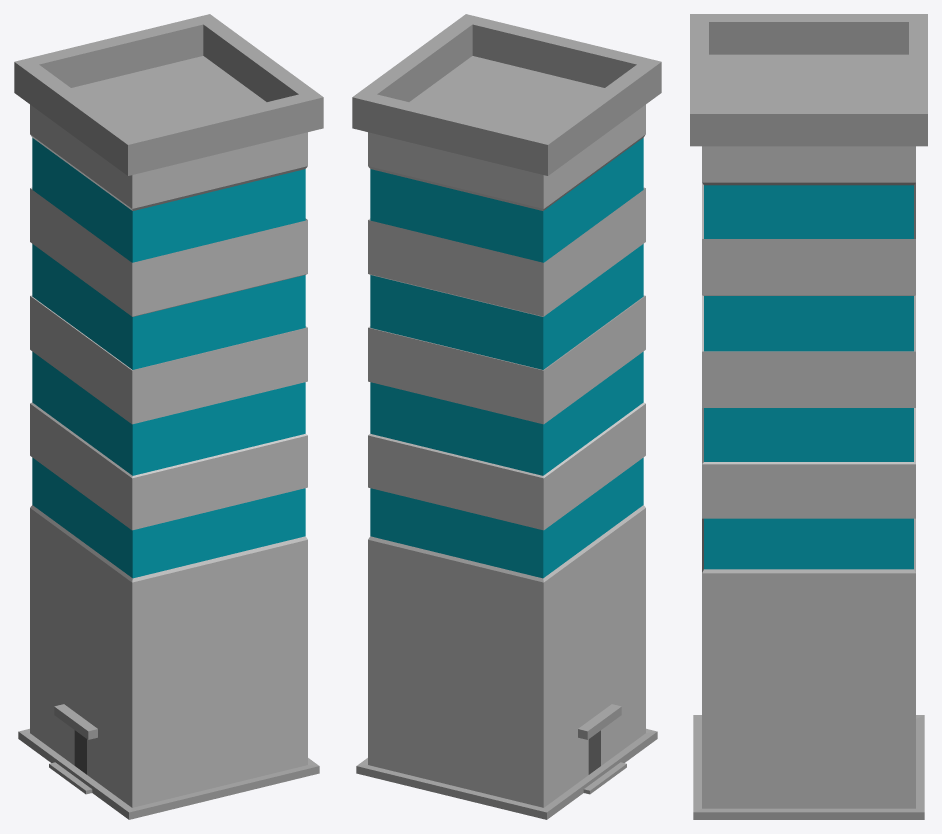
The model's file is buliding1.fbx.
The picture shows the model from 3 angles, left to right: view 1: azimuth 30°, elevation 25°; view 2: azimuth 150°, elevation 25°; view 3: azimuth 270°, elevation 25°; orthographic projection. The views are drawn at different scales.
Parts seen in each view (by area): view 1: pCube4; view 2: pCube4; view 3: pCube4.
Boxes of the visible parts, <box> form: pCube4: <box>14,14,323,819</box>; pCube4: <box>352,14,661,819</box>; pCube4: <box>690,14,927,819</box>.
Size of the model in its own units: 31.08 by 101 by 30.72.
